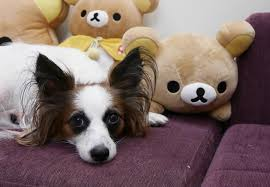dog: (22, 51, 170, 162)
